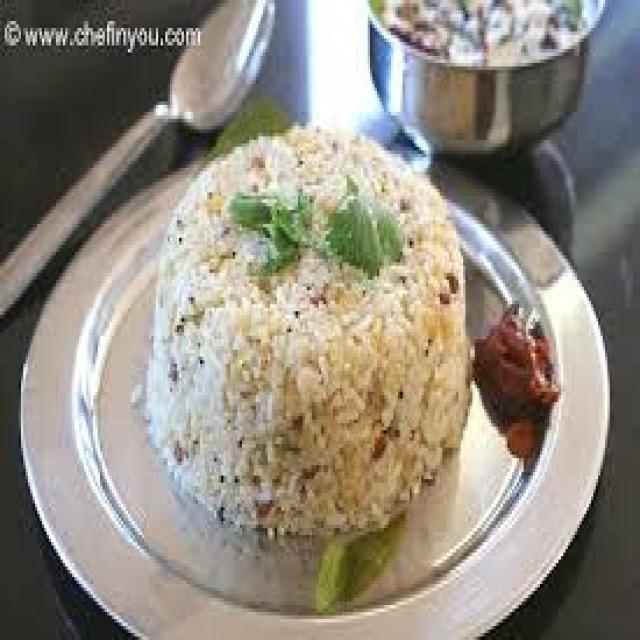UPMA: (137, 133, 468, 591)
